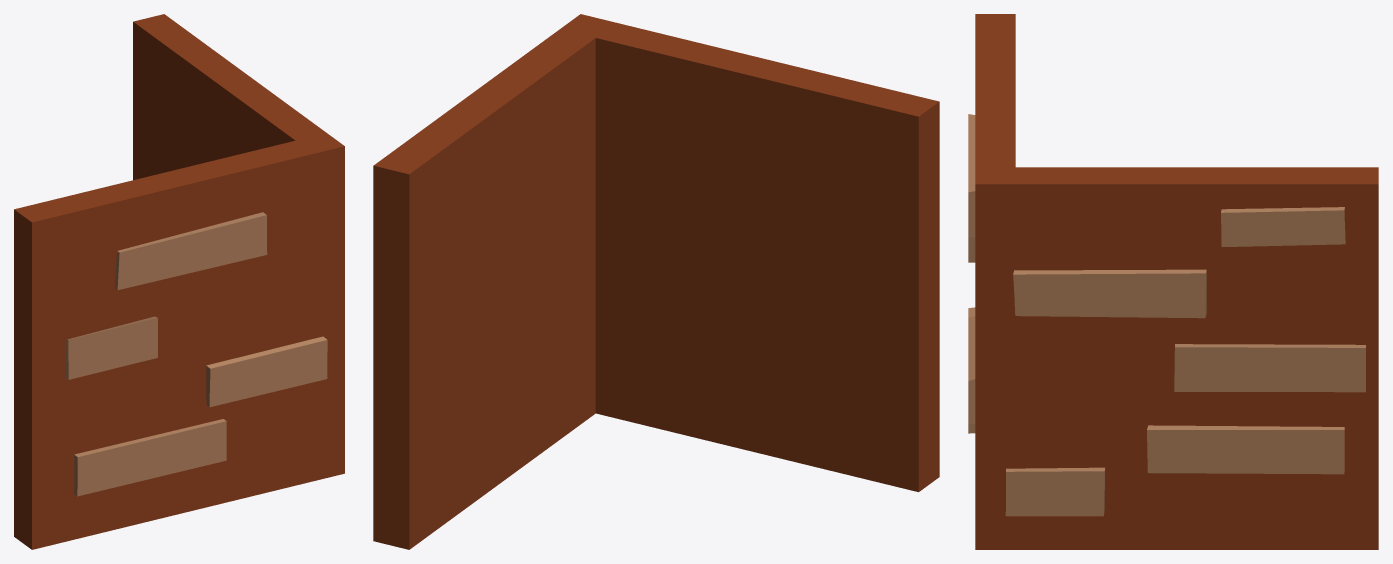
File: BrickV2CornerHalfWall.fbx
The picture shows the model from 3 angles, left to right: view 1: azimuth 30°, elevation 25°; view 2: azimuth 150°, elevation 25°; view 3: azimuth 270°, elevation 25°; orthographic projection. The views are drawn at different scales.
Parts seen in each view (by area): view 1: BrickV2CornerHalfWall; view 2: BrickV2CornerHalfWall; view 3: BrickV2CornerHalfWall.
Boxes of the visible parts, bbox=[...] form: BrickV2CornerHalfWall: bbox=[14, 14, 344, 549]; BrickV2CornerHalfWall: bbox=[373, 14, 939, 549]; BrickV2CornerHalfWall: bbox=[968, 14, 1378, 549].
Size of the model in its own units: 102 by 100 by 102.
